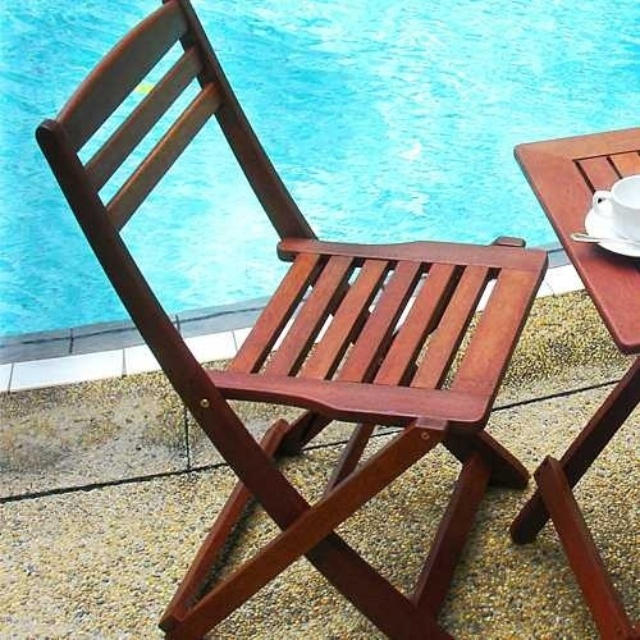obstacle: (36, 0, 545, 639)
